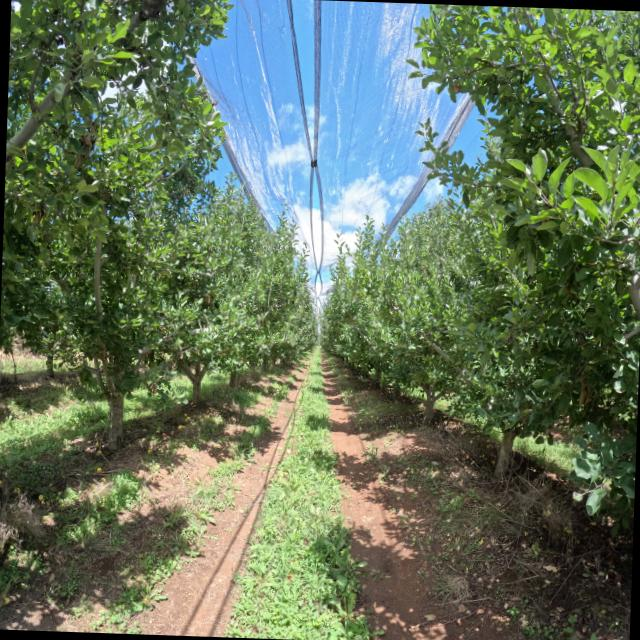-FireBlight-: (71, 134, 96, 172), (577, 367, 596, 408)
